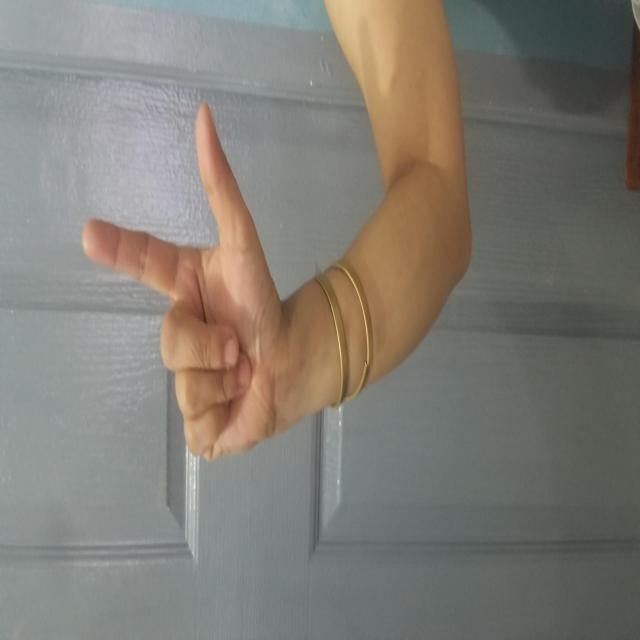L: (174, 81, 538, 281)
